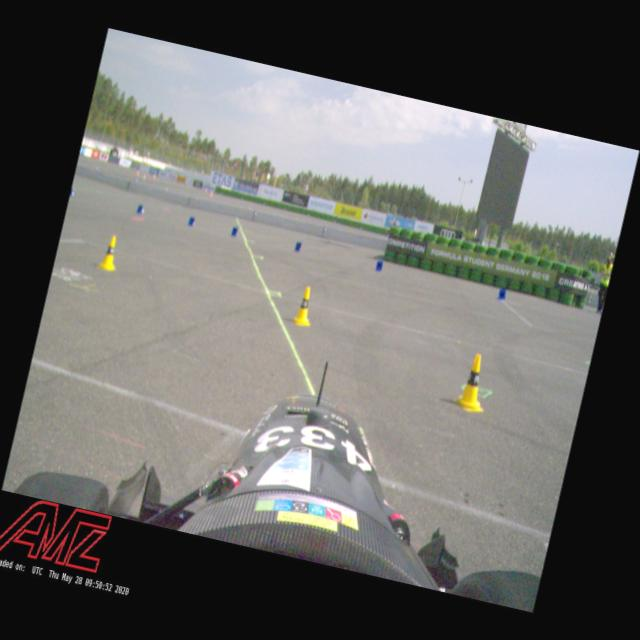blue_cone: (136, 203, 146, 215), (69, 187, 77, 198)
yellow_cone: (451, 350, 496, 416), (291, 284, 318, 328), (96, 232, 123, 272)
